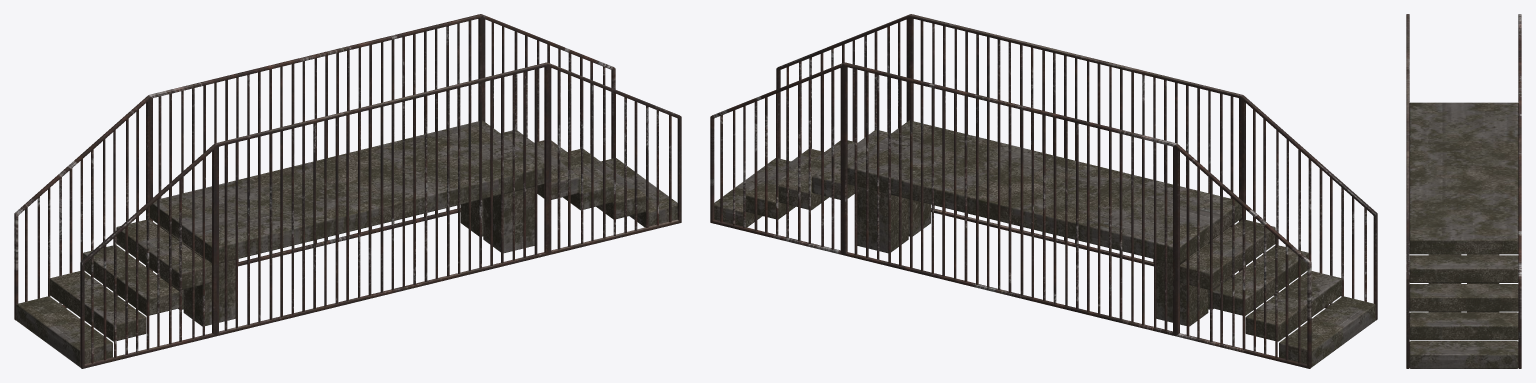
3 renders of one model, left to right at view 1: azimuth 30°, elevation 25°; view 2: azimuth 150°, elevation 25°; view 3: azimuth 270°, elevation 25°, orthographic. The views are drawn at different scales.
Parts seen in each view (by area): view 1: escada; view 2: escada; view 3: escada.
Boxes of the visible parts, bbox=[...] form: escada: bbox=[14, 14, 681, 368]; escada: bbox=[710, 14, 1377, 368]; escada: bbox=[1406, 14, 1521, 368].
Size of the model in its own units: 5.4 by 1.65 by 1.06.
1 material, 1 textured.
